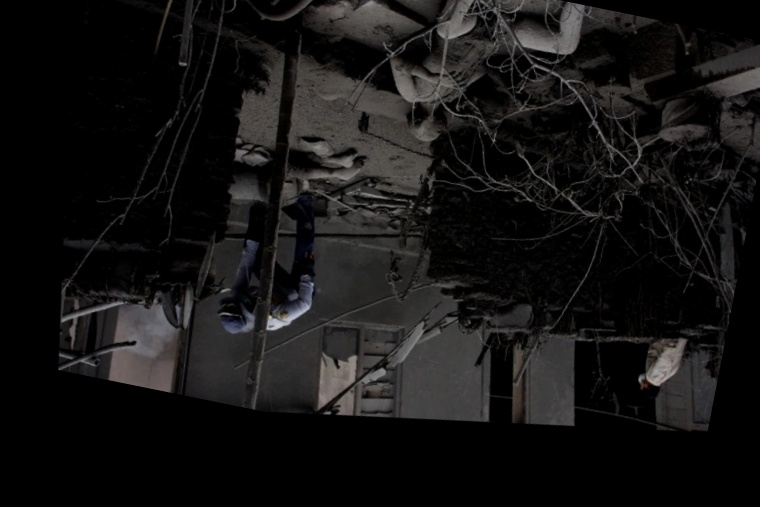BukanKorban: (192, 162, 343, 353), (627, 328, 698, 409)
Korban: (357, 0, 623, 182), (217, 122, 377, 232)
